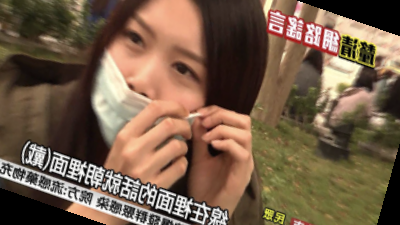mask_weared_incorrect: (74, 2, 279, 157)
